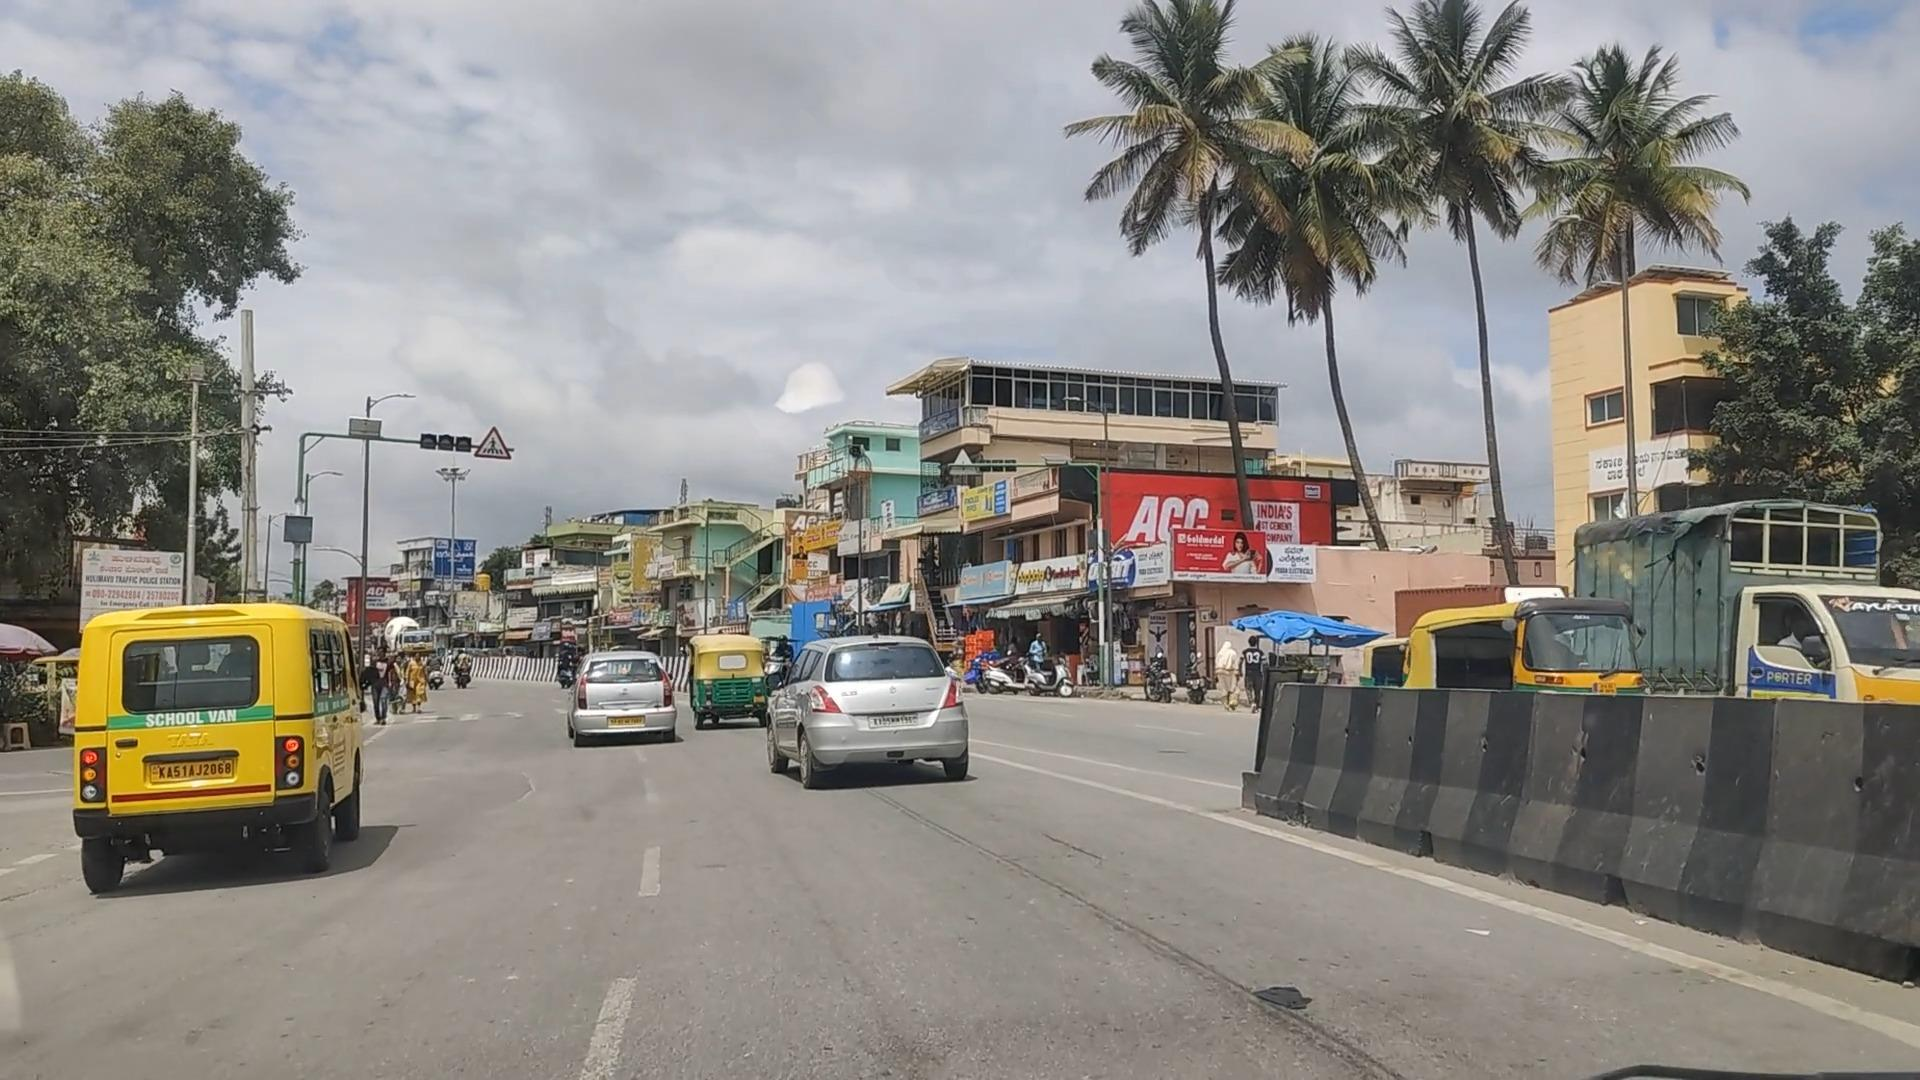LMV: (58, 567, 393, 903), (771, 591, 986, 811), (562, 603, 709, 770), (679, 616, 808, 756)
